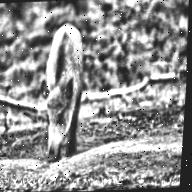boar: (22, 10, 101, 161)
